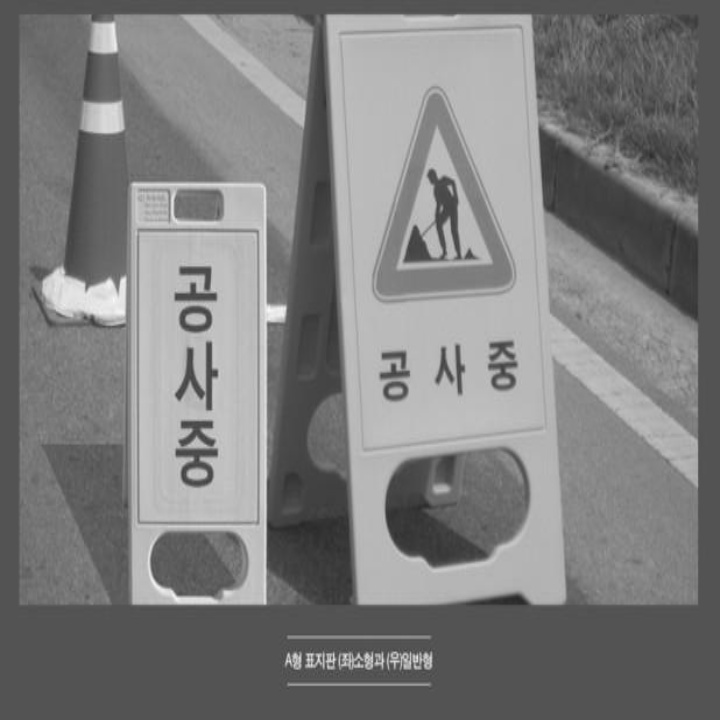const: (397, 152, 480, 260)
